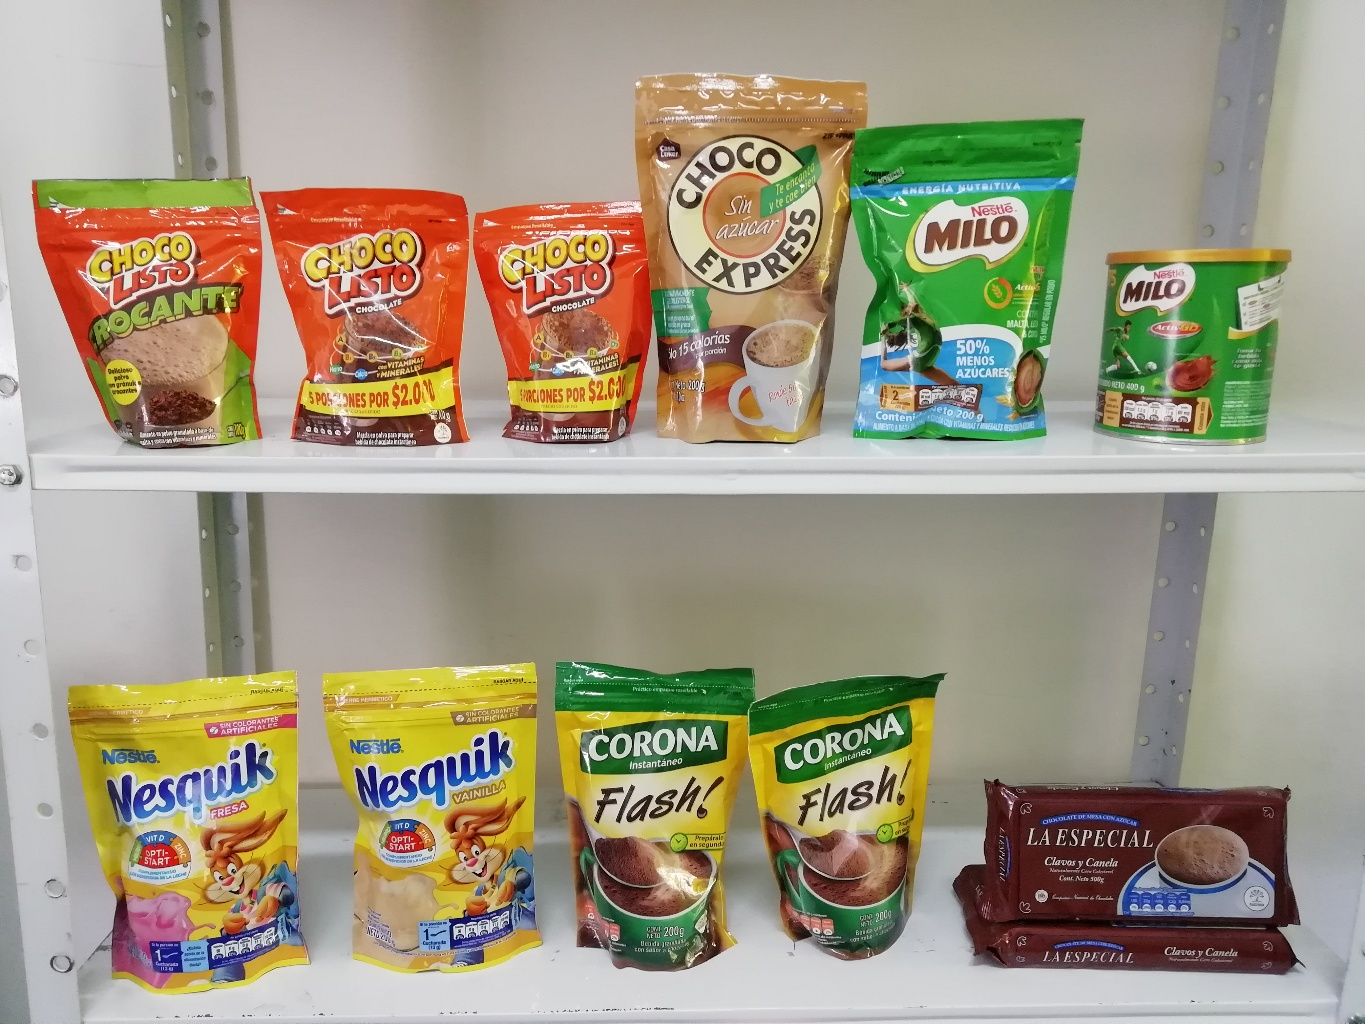COL0170102DYP10000: (34, 176, 256, 441)
COL0170103DYP10000: (473, 197, 649, 450)
COL0170203LAT40000: (1094, 231, 1299, 455)
COL0170205DYP20000: (856, 103, 1080, 447)
COL0170305DYP20000: (46, 669, 313, 985)
COL0170306DYP20000: (311, 665, 551, 982)
